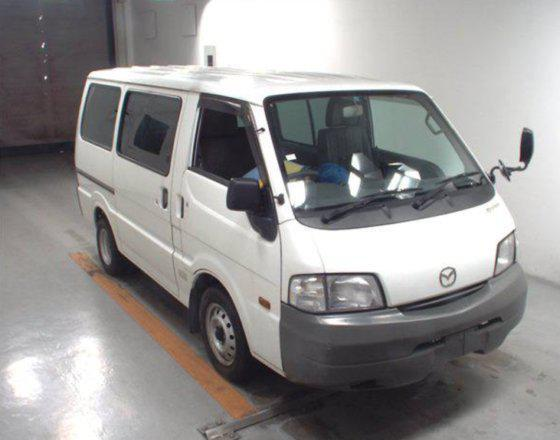Van: (75, 63, 538, 372)
